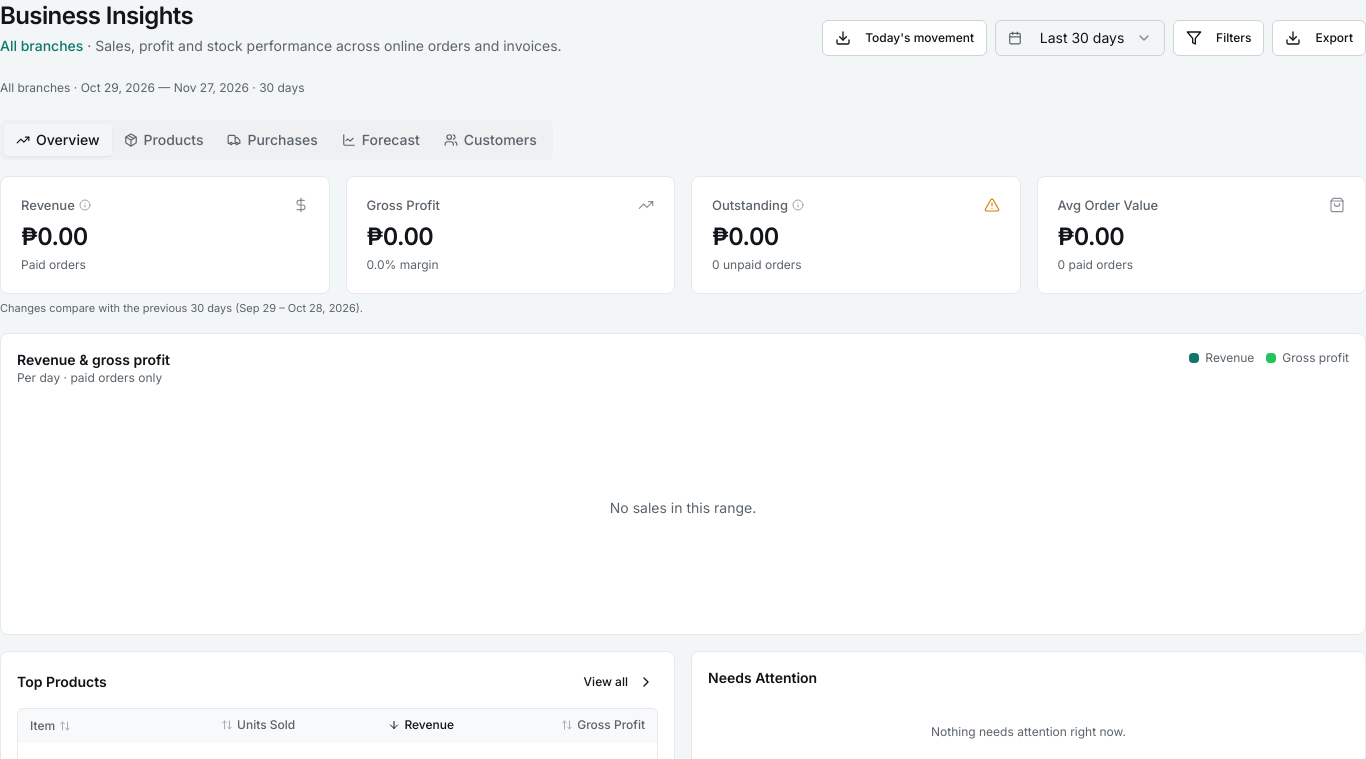
Test: BusinessInsightsPage › keeps the sales filters behind one drawer instead of an inline bar
Expected: the dropdown named "Date range" reads "Last 30 days", [995,20,1165,56]
Expected: the text "All payments" is not shown
What coordinates should you click on to do the following:
click the button "Filters"
I would click on:
 (1219, 38)
Its box is [1173,20,1264,56].
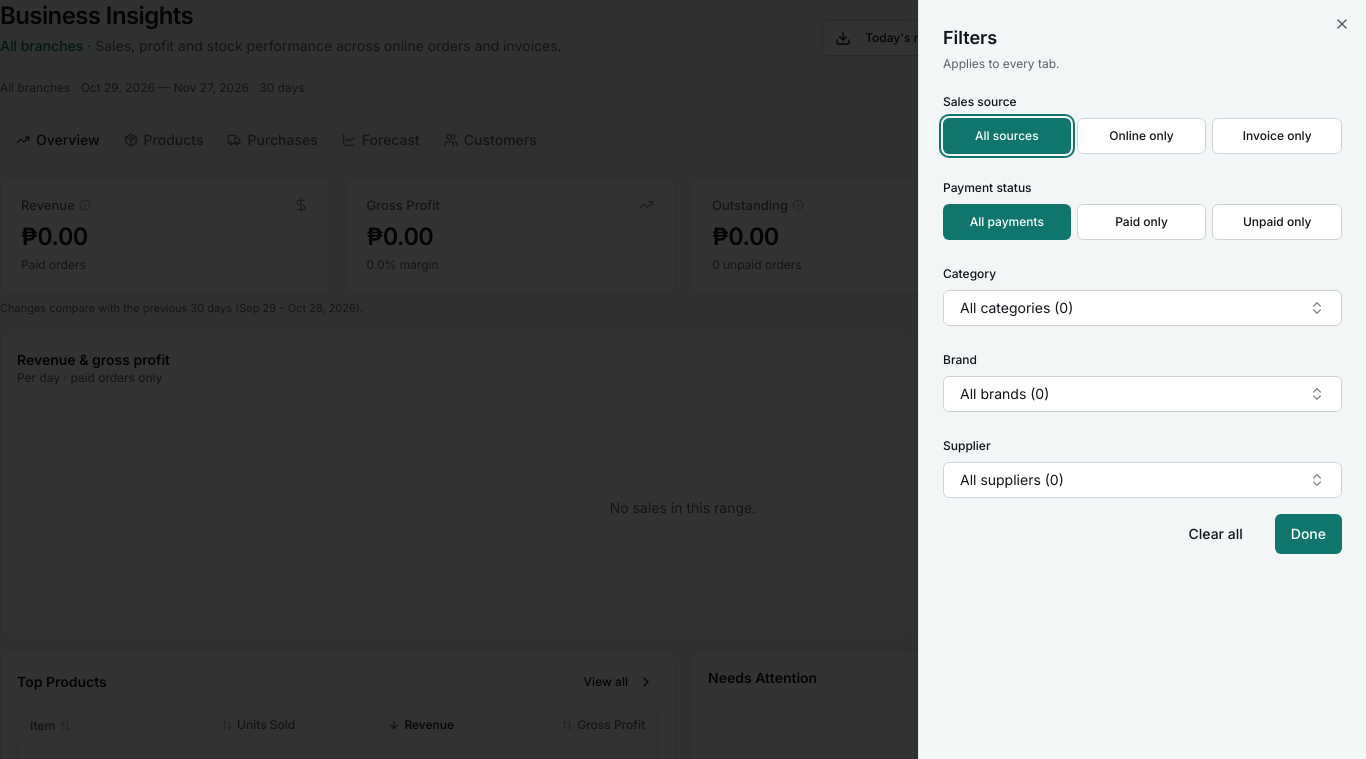
Expected: the text "Sales source" is shown, [943,94,1017,109]
Expected: the text "Payment status" is shown, [943,180,1032,195]
Expected: the text "Category" is shown, [943,266,996,281]
